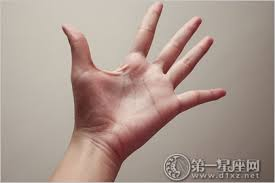palm: (58, 1, 228, 157)
